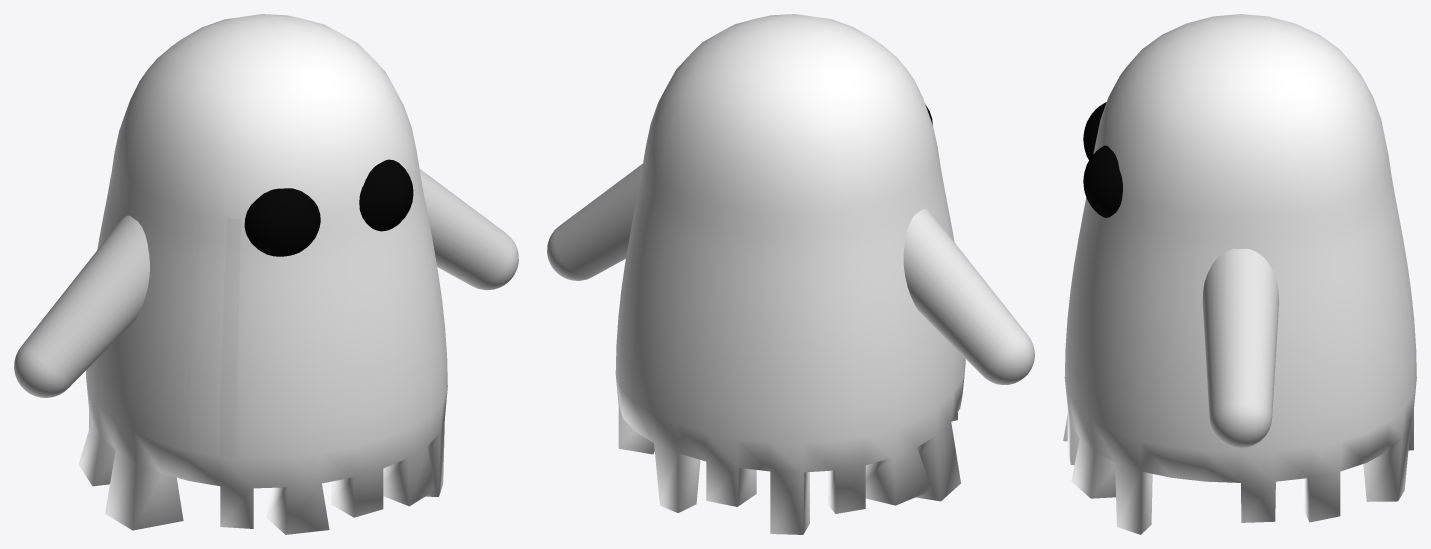
Rendered from newghost.glb.
3 renders of one model, left to right at view 1: azimuth 30°, elevation 25°; view 2: azimuth 150°, elevation 25°; view 3: azimuth 270°, elevation 25°, orthographic. The views are drawn at different scales.
Visible parts, largest first — view 1: Cube, Sphere, Sphere.001, Sphere.002, Sphere.003; view 2: Cube, Sphere, Sphere.001; view 3: Cube, Sphere.001, Sphere.003, Sphere.002.
Boxes of the visible parts, x1,y1,x2,y2 form: Cube: (78,14,447,534); Sphere: (14,215,149,397); Sphere.001: (419,169,518,290); Sphere.002: (244,188,320,256); Sphere.003: (359,159,413,231); Cube: (615,14,965,534); Sphere: (903,209,1034,384); Sphere.001: (547,163,642,280); Cube: (1063,14,1416,534); Sphere.001: (1202,249,1278,447); Sphere.003: (1083,145,1122,217); Sphere.002: (1083,102,1106,160).
Size of the model in its own units: 3.29 by 2.87 by 2.05.
2 materials, 1 textured.
